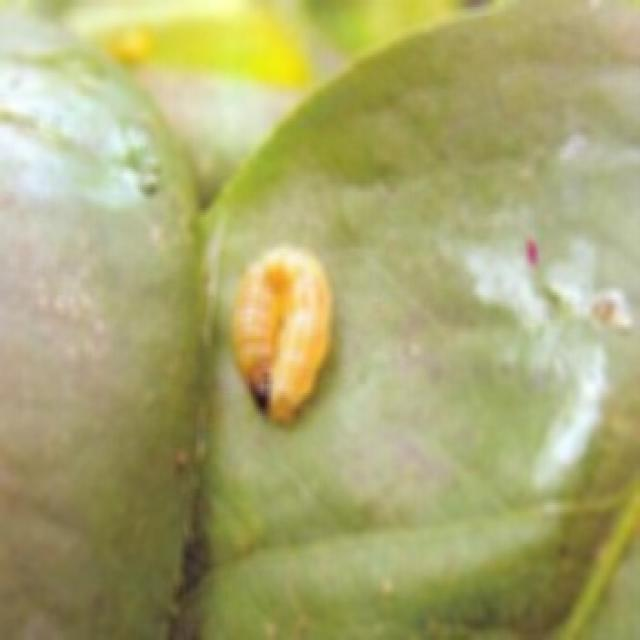peach borer: (235, 244, 331, 425)
